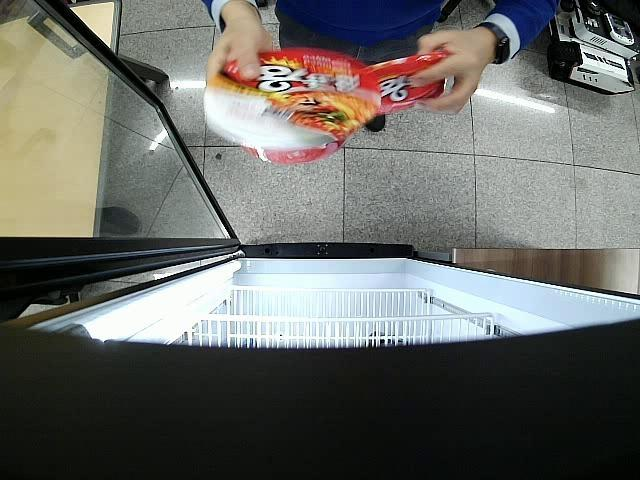10_wangTtukkeong: (203, 49, 381, 164), (364, 52, 453, 112)
